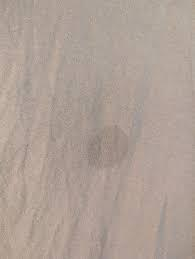mustard: (79, 123, 130, 172)
